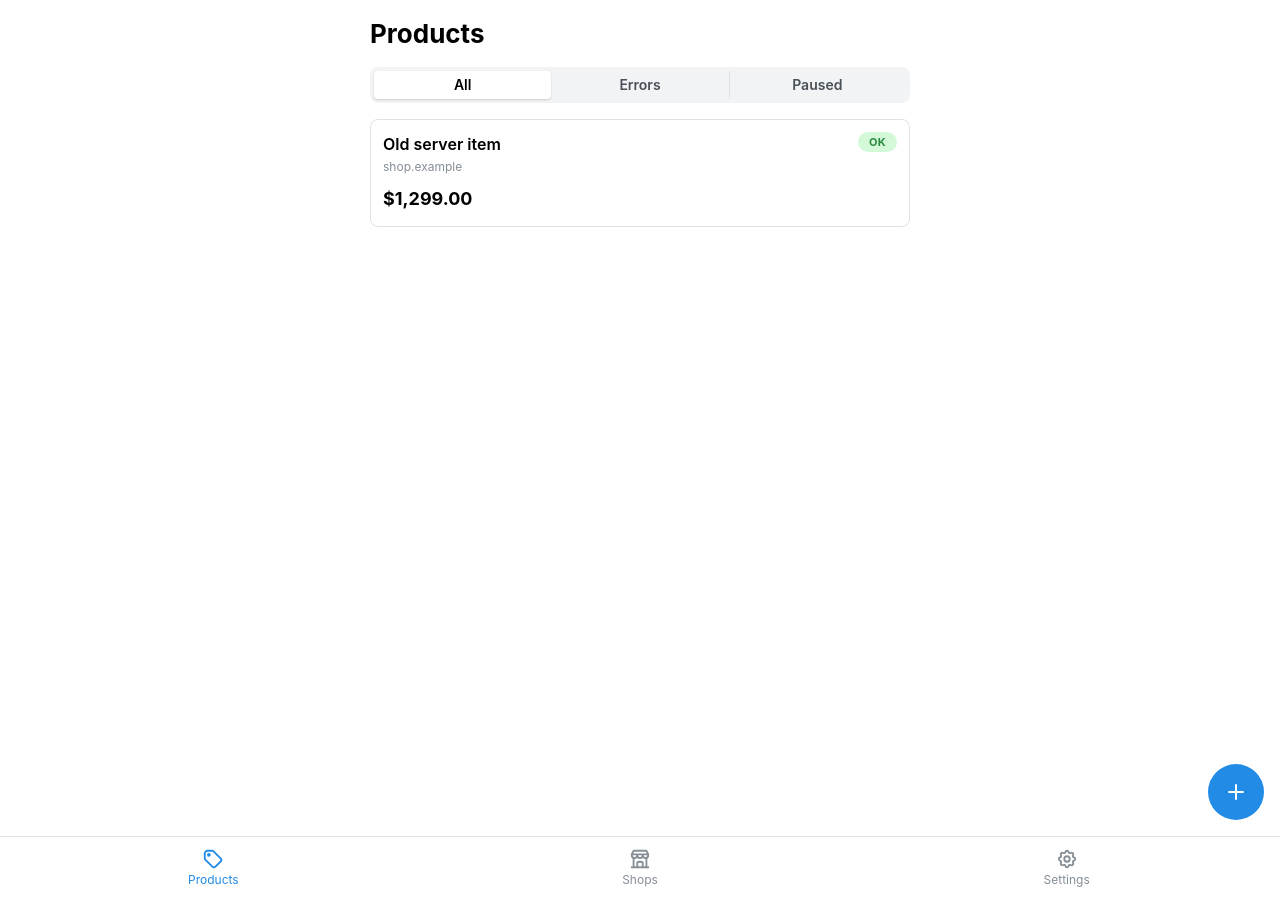
ProductsPage › never shows the previous server's products after switching servers
Expected: the link "Old server item" is shown, [370, 119, 910, 227]
Click the link "Settings".
click(1067, 868)  # box [1044, 848, 1090, 887]
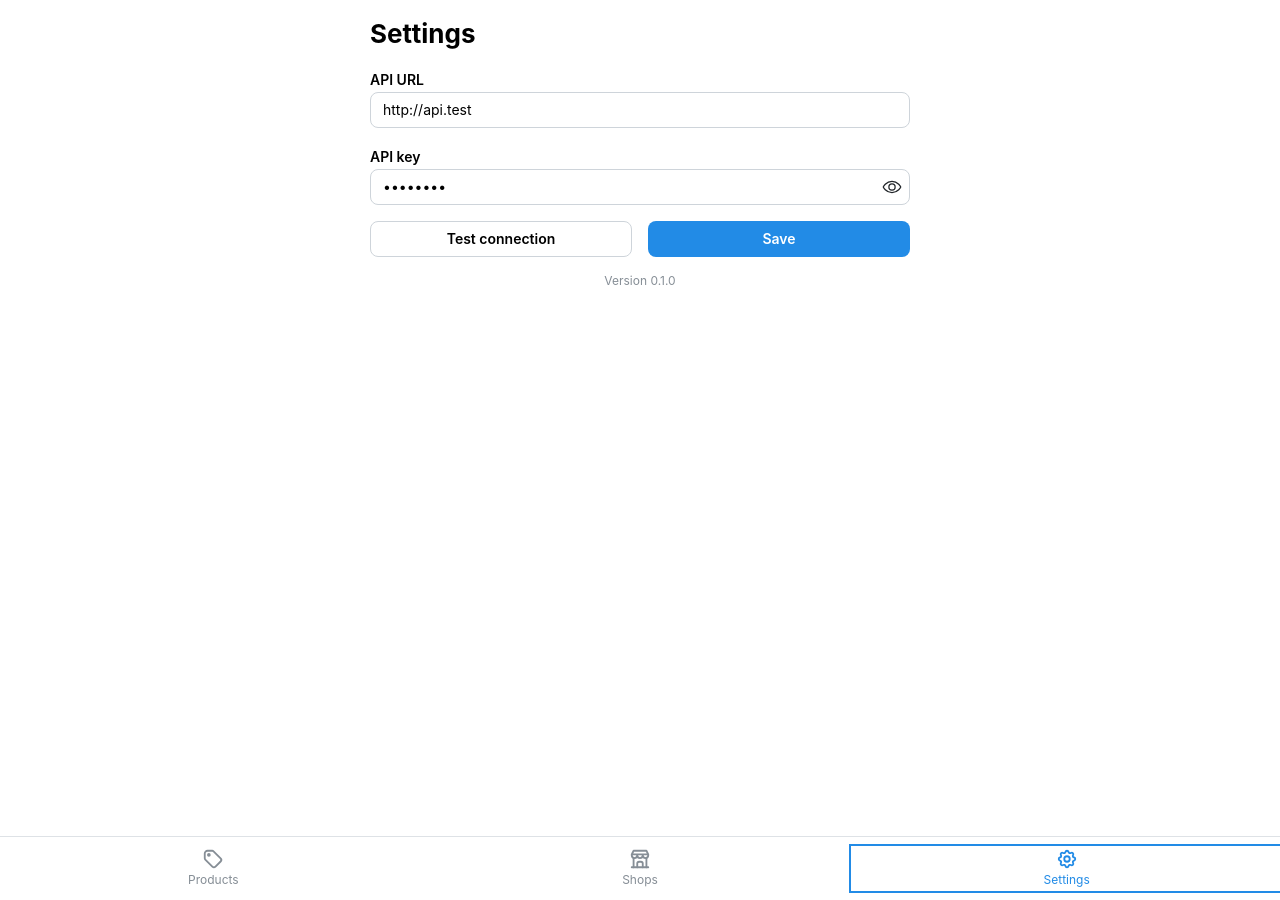
Replace the text in the field labelled "API URL" with "http://other.test" at point(640, 110), box [370, 92, 910, 128]
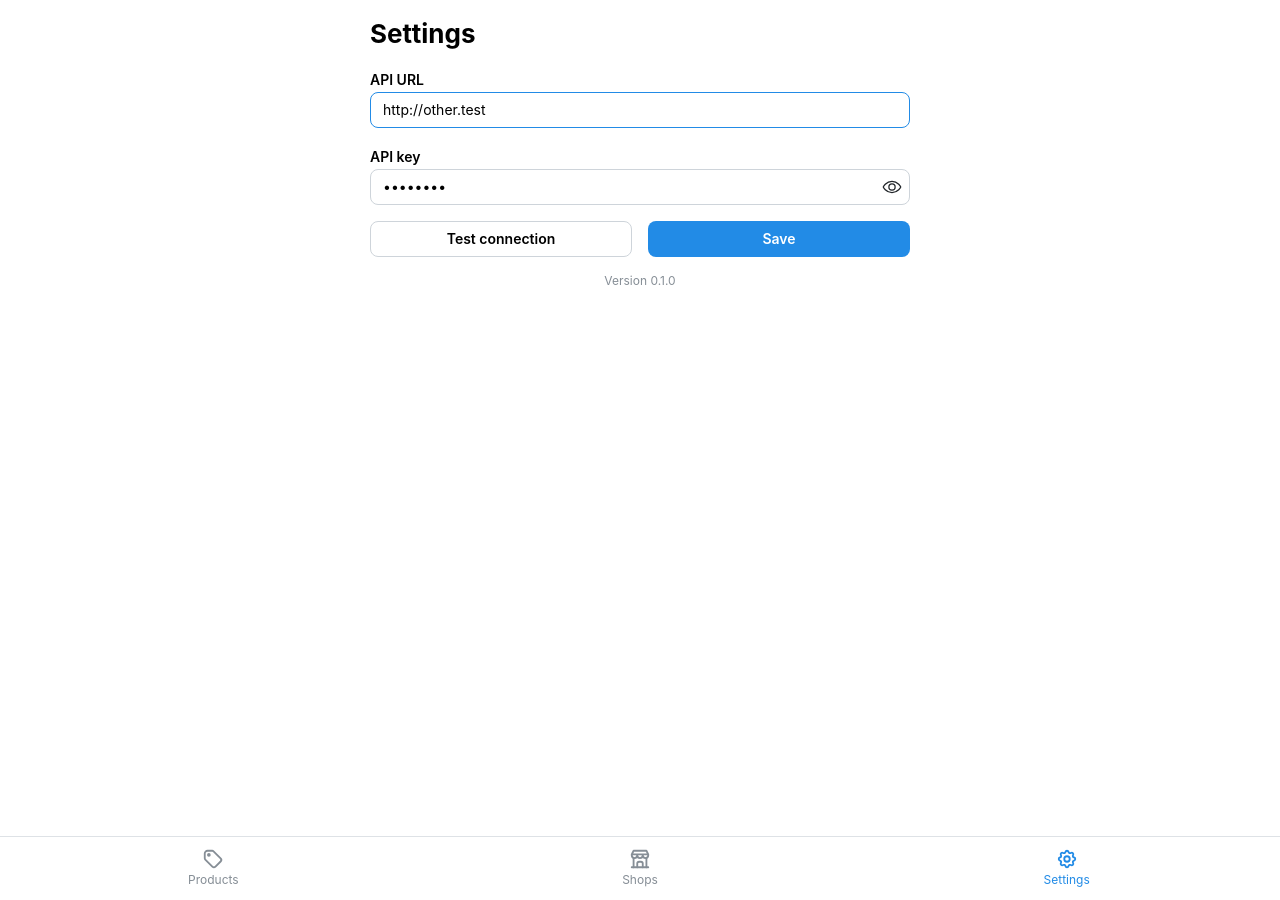
Click the button "Save".
click(779, 239)  # box [648, 221, 910, 257]
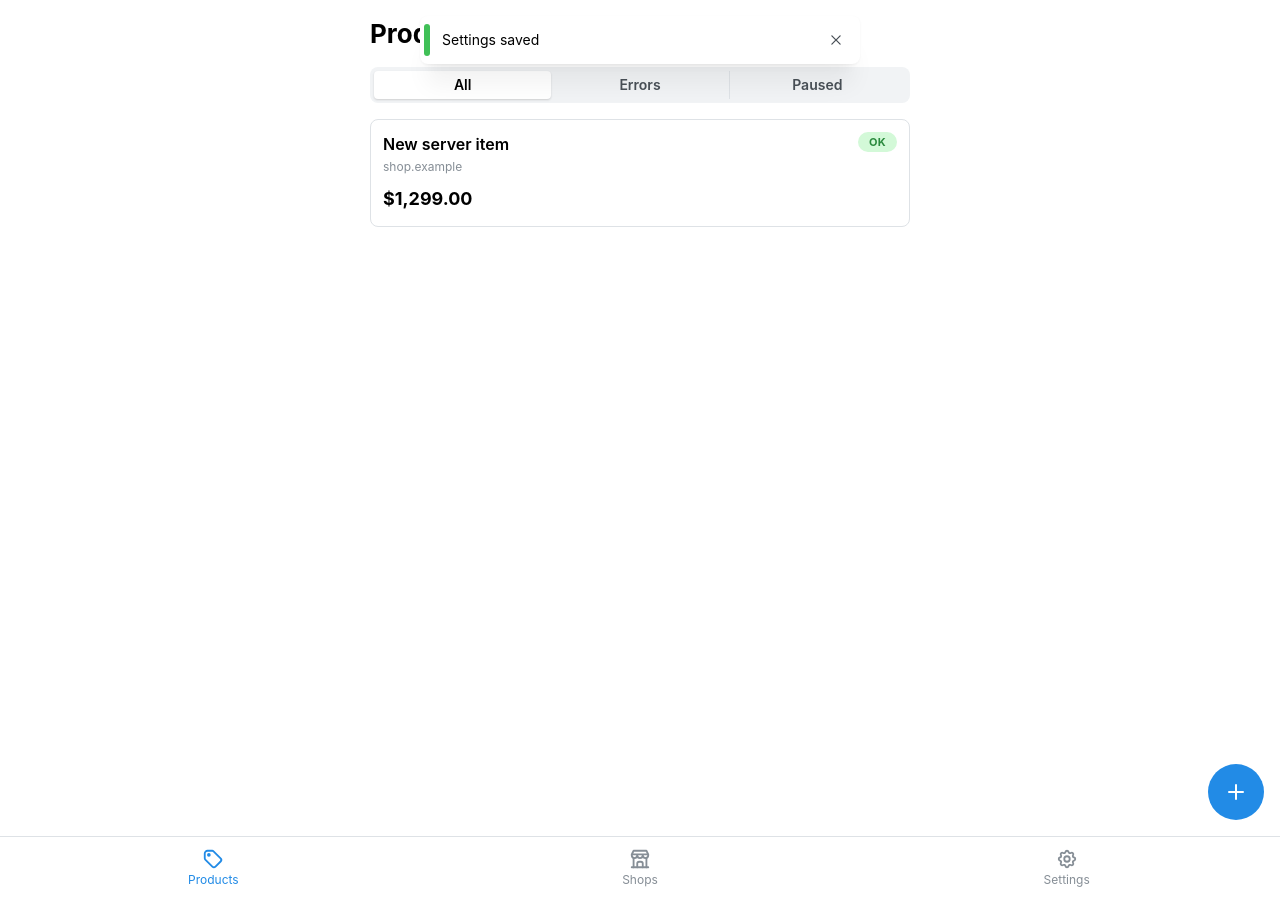
Expected: the link "Old server item" is not shown
Expected: the link "New server item" is shown, [370, 119, 910, 227]
